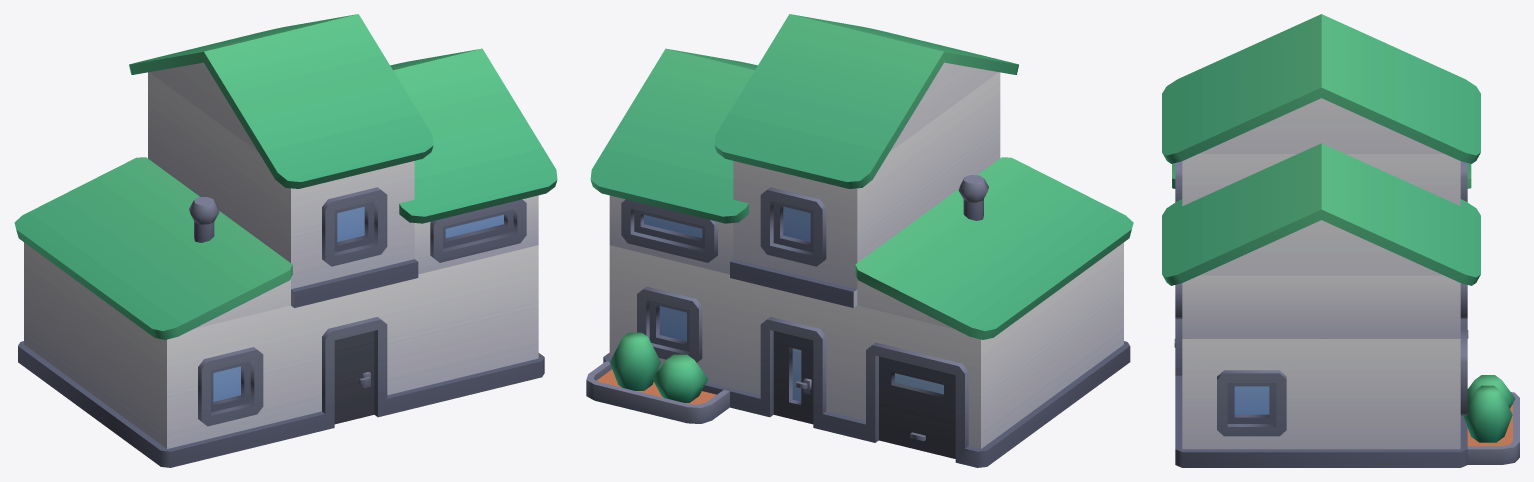
File: suburban-building-type-c.glb
3 views of the same model, side by side, from view 1: azimuth 30°, elevation 25°; view 2: azimuth 150°, elevation 25°; view 3: azimuth 270°, elevation 25° (orthographic). The views are drawn at different scales.
Parts seen in each view (by area): view 1: building-type-c; view 2: building-type-c; view 3: building-type-c.
Boxes of the visible parts, x1,y1,x2,y2 form: building-type-c: [14, 14, 557, 467]; building-type-c: [586, 14, 1133, 467]; building-type-c: [1162, 14, 1519, 467].
Size of the model in its own units: 1.29 by 1.03 by 1.03.
1 material, 1 textured.
